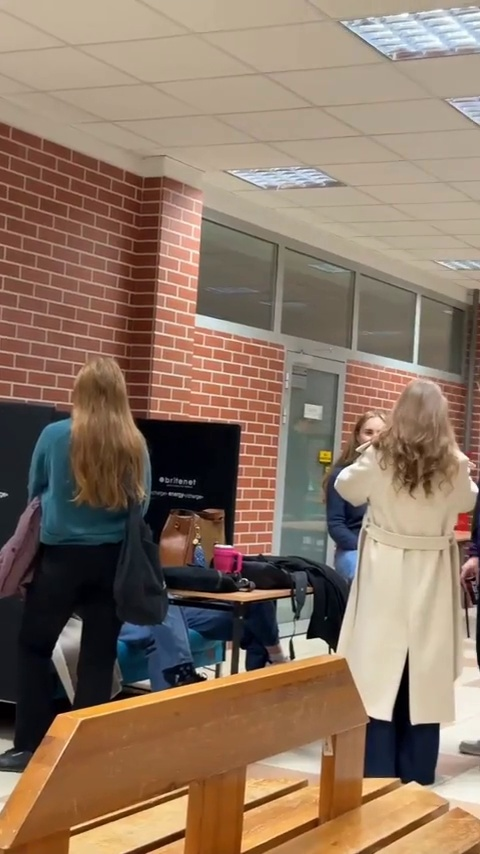no vest: (30, 353, 164, 703), (338, 375, 471, 727)
